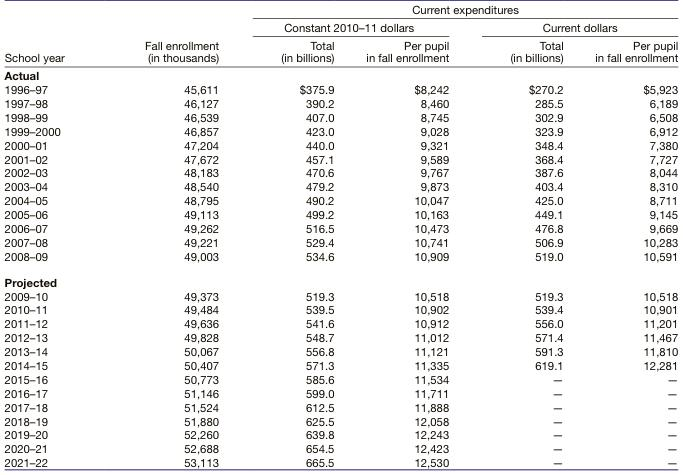table: (3, 3, 677, 468)
table column: (103, 3, 249, 468), (349, 3, 478, 468), (3, 3, 103, 468), (249, 3, 349, 468), (478, 3, 578, 468), (578, 3, 677, 468)
table column header: (3, 3, 677, 67)
table projected row header: (3, 269, 677, 289), (3, 67, 677, 82)
table row: (3, 36, 677, 67), (3, 249, 677, 269), (3, 269, 677, 289), (3, 18, 677, 36), (3, 3, 677, 18), (3, 67, 677, 82), (3, 82, 677, 96), (3, 96, 677, 110), (3, 110, 677, 124), (3, 124, 677, 138), (3, 138, 677, 152), (3, 152, 677, 166), (3, 166, 677, 180), (3, 193, 677, 207), (3, 207, 677, 221), (3, 221, 677, 235), (3, 235, 677, 249), (3, 289, 677, 303), (3, 303, 677, 317), (3, 330, 677, 344), (3, 344, 677, 358), (3, 358, 677, 372), (3, 372, 677, 386), (3, 386, 677, 400), (3, 400, 677, 414), (3, 414, 677, 428), (3, 428, 677, 442), (3, 180, 677, 193), (3, 317, 677, 330), (3, 442, 677, 455), (3, 455, 677, 468)
table spanning cell: (103, 3, 249, 67), (249, 3, 677, 18), (3, 3, 103, 67), (249, 18, 478, 36), (478, 18, 677, 36)
